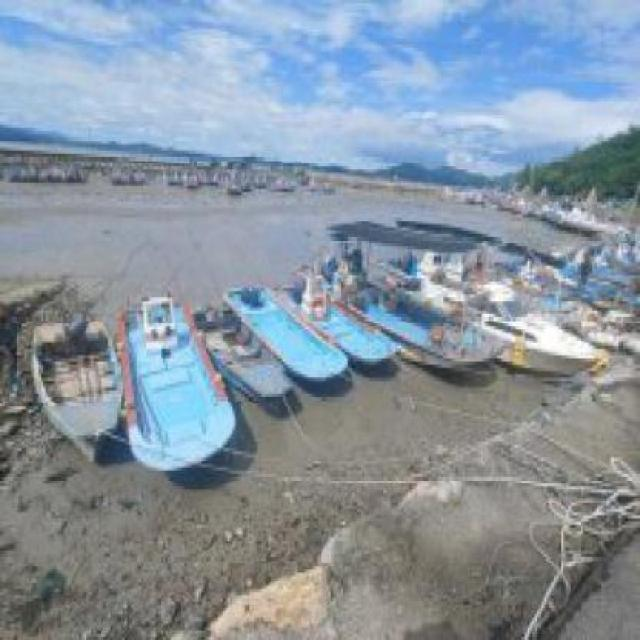fish-b: (365, 244, 617, 392), (106, 283, 251, 487), (216, 276, 361, 404)
